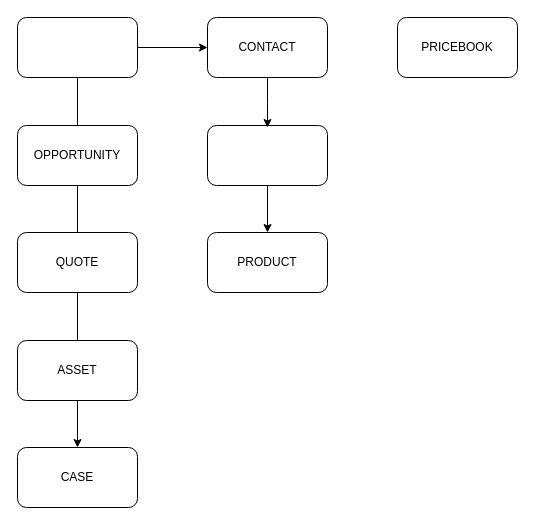
The diagram is 535 pixels wide and 525 high, and some of its shapes have lost their labels. The centre of each missing label's shape, as x and y in pixels:
"ACCOUNT" belongs at point 77,47.
"LEAD" belongs at point 267,155.
